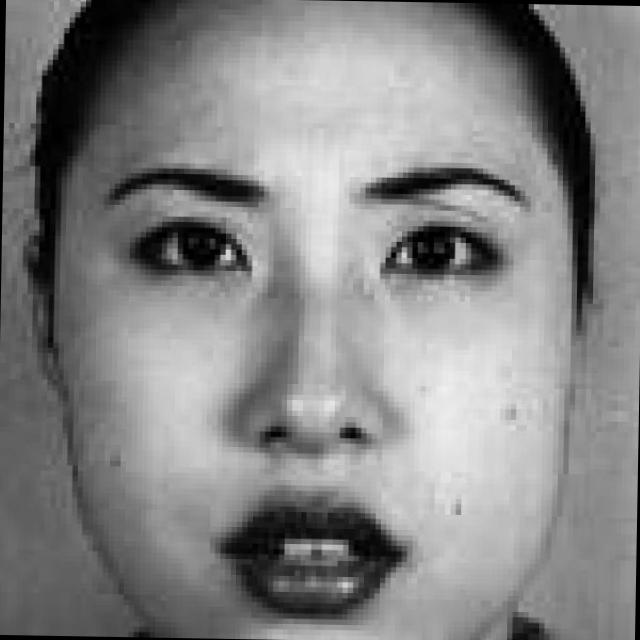fear: (75, 43, 568, 639)
